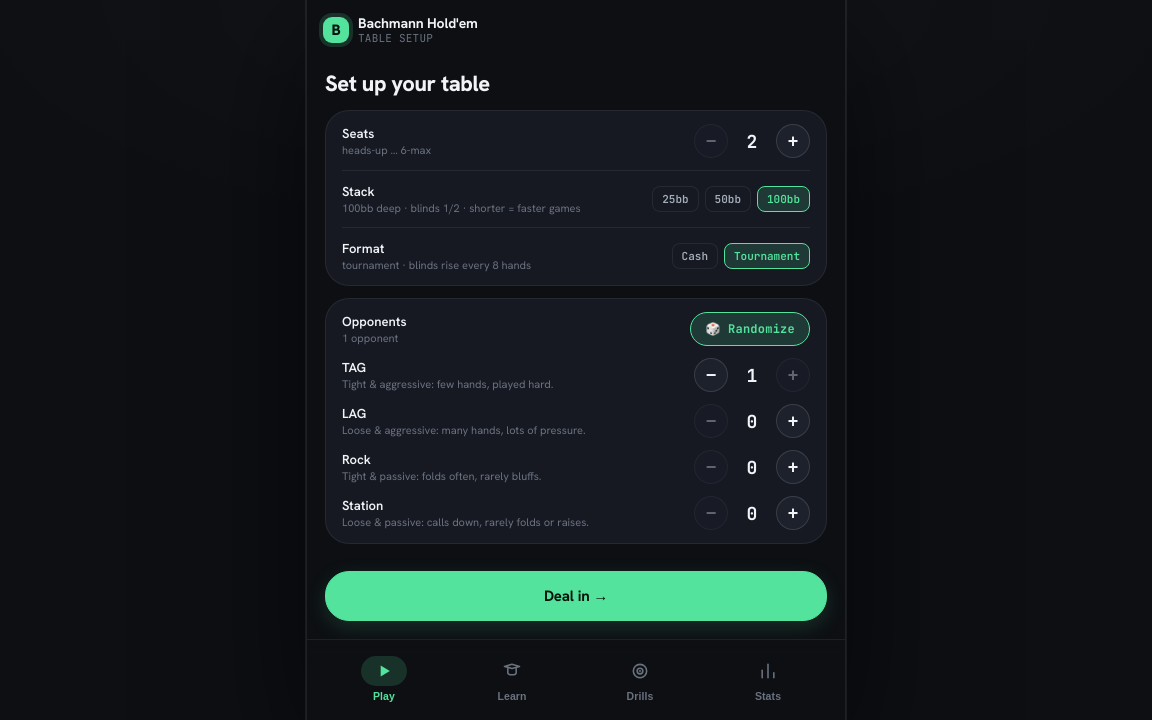
Test case: App — hand-history recording seam › appends exactly one record per completed hand (and captures hero decisions)
Click the button "Deal in →" at (576,596), box [325,571,827,621]
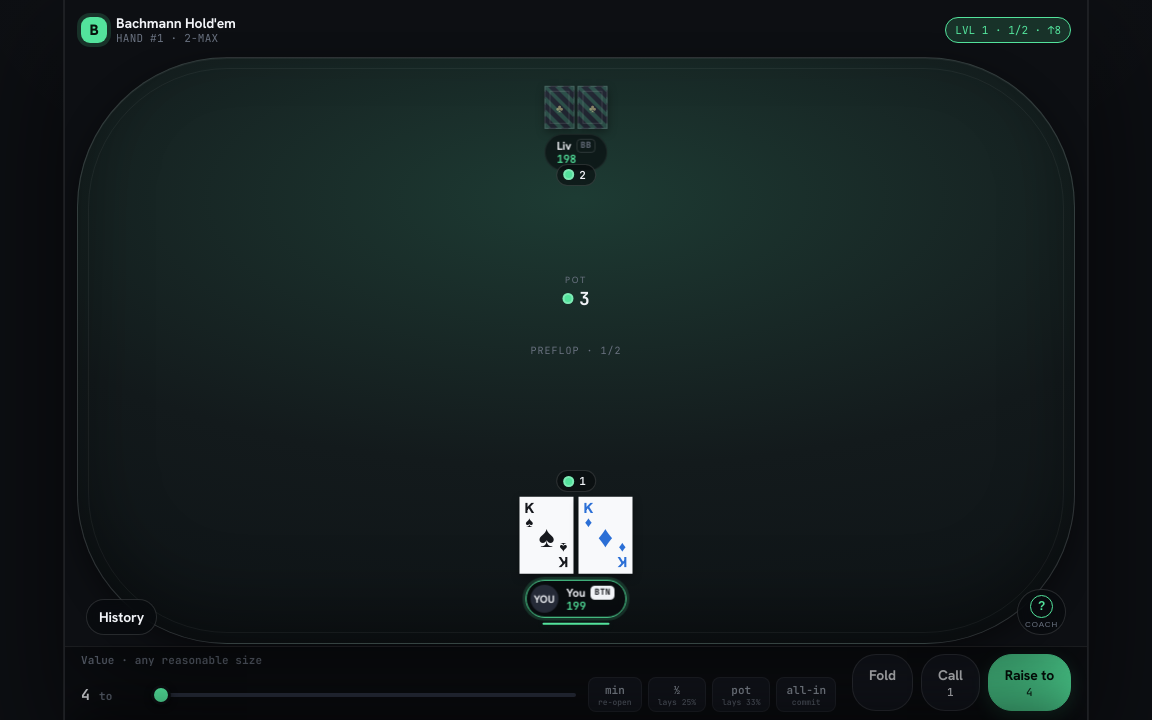
Click the button "Call 1" at (950,683), box [921,654,980,711]
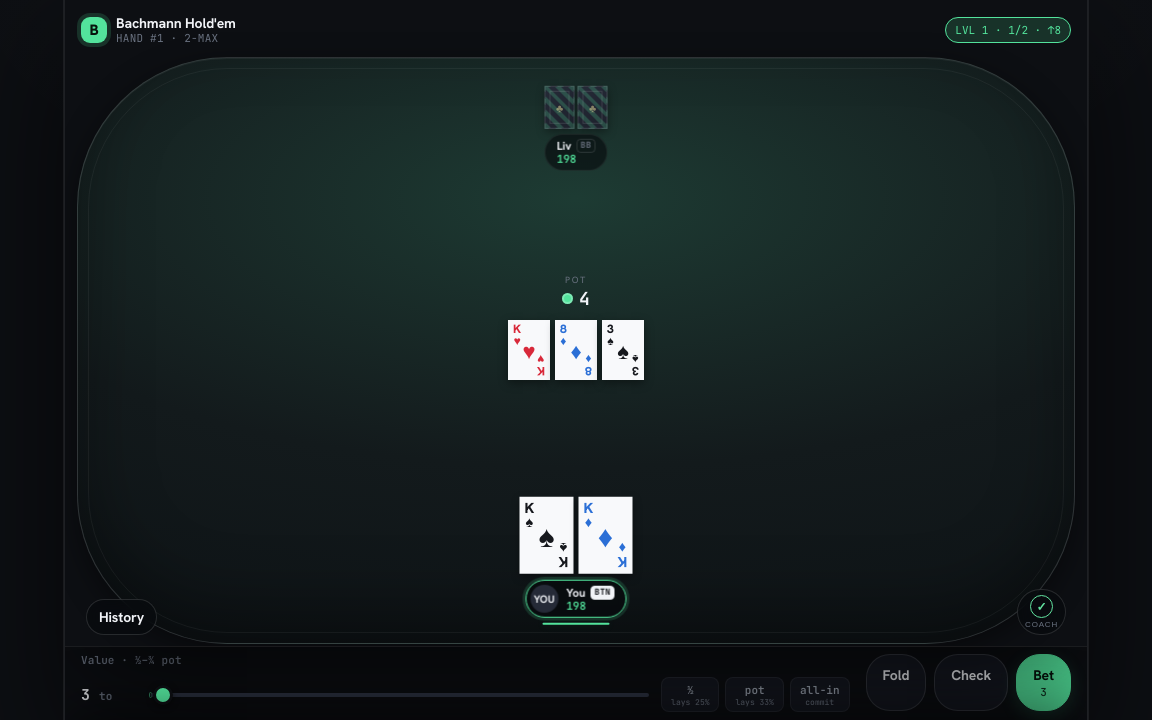
Click the button "Check" at (971,683), box [934,654,1008,711]
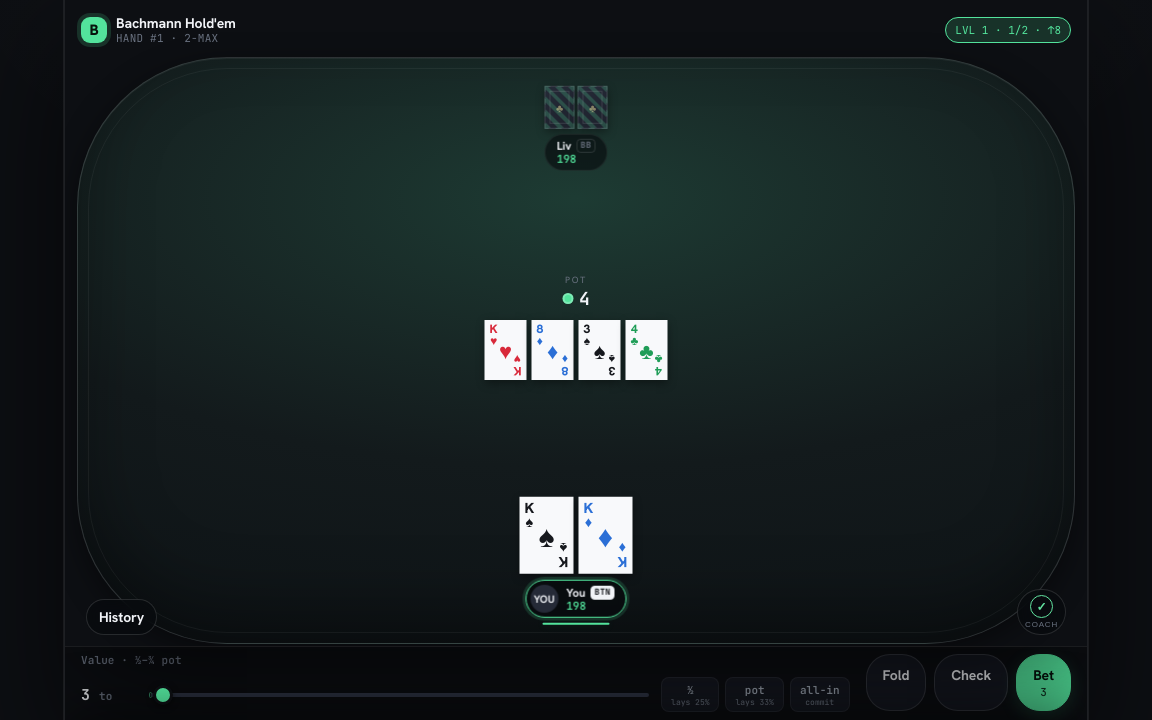
Click the button "Check" at (971,683), box [934,654,1008,711]
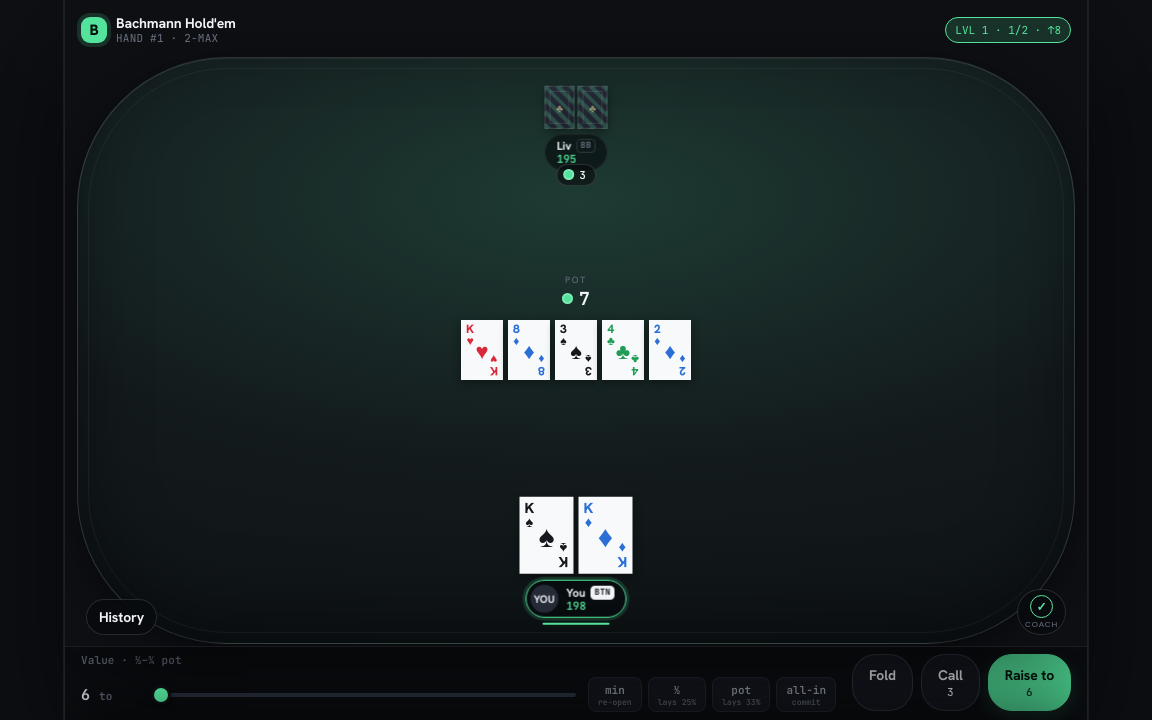
Click the button "Call 3" at (950,683), box [921,654,980,711]
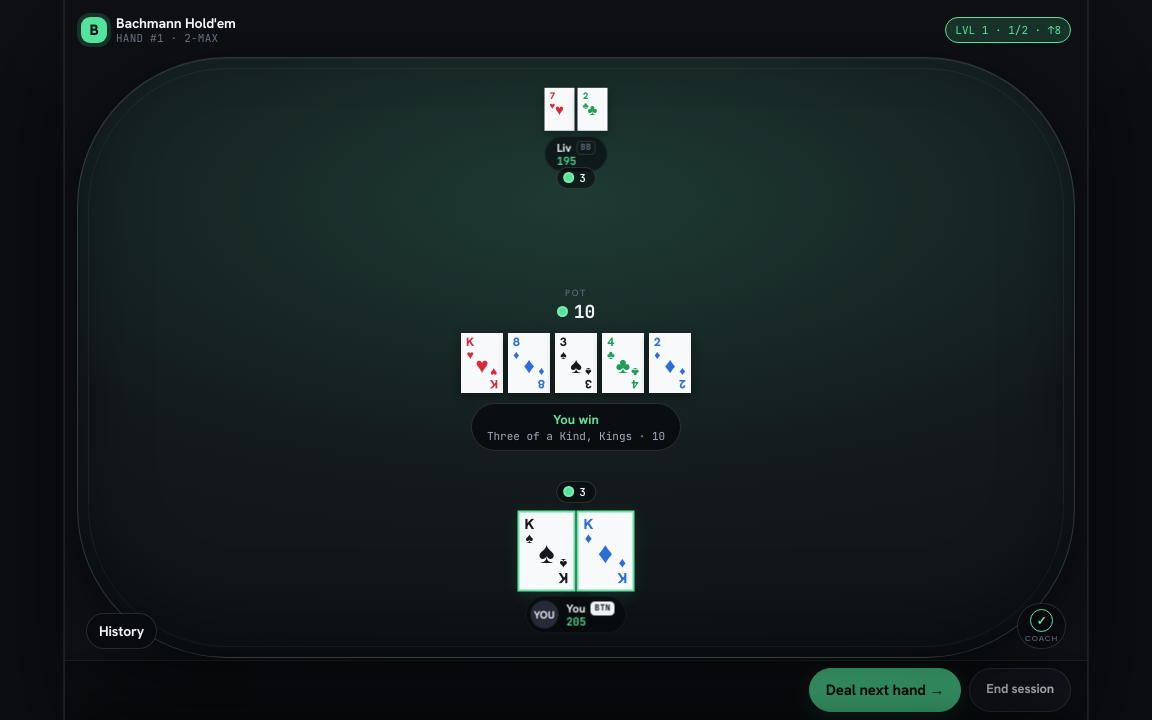
Expected: the button "Deal next hand →" is shown, [809,668,961,712]
